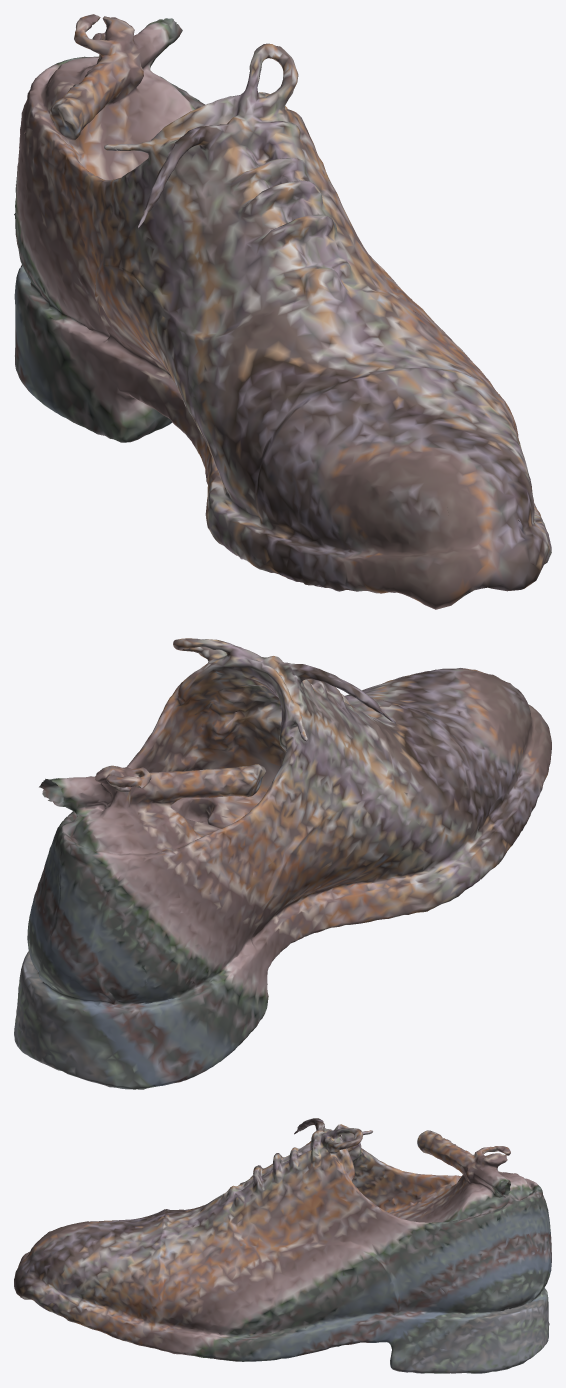
The model's file is shoe.glb.
3 renders of one model, top to bottom at view 1: azimuth 30°, elevation 25°; view 2: azimuth 150°, elevation 25°; view 3: azimuth 270°, elevation 25°, orthographic. The views are drawn at different scales.
Visible parts, largest first — view 1: Suede leather shoe #AgisoftClothesChallenge; view 2: Suede leather shoe #AgisoftClothesChallenge; view 3: Suede leather shoe #AgisoftClothesChallenge.
Boxes of the visible parts, x1,y1,x2,y2 form: Suede leather shoe #AgisoftClothesChallenge: (14,14,551,609); Suede leather shoe #AgisoftClothesChallenge: (14,638,551,1089); Suede leather shoe #AgisoftClothesChallenge: (14,1118,551,1373).
Bounding box in the file's own units: 1.95 × 2.51 × 5.4.
